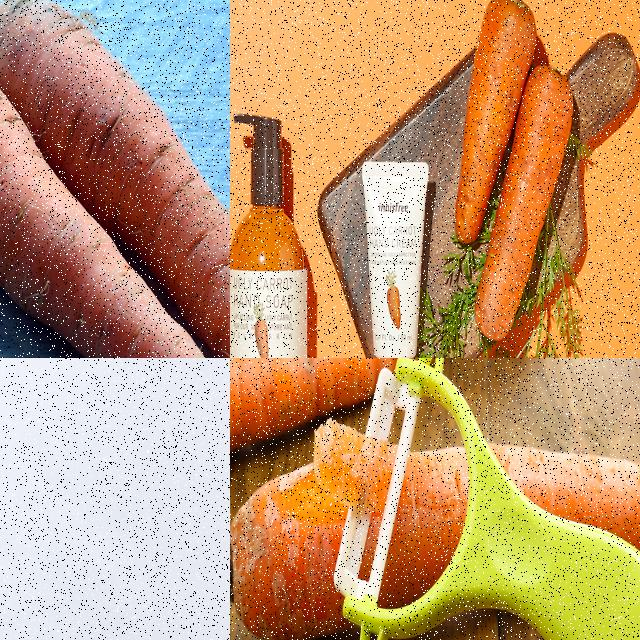carrot: (0, 0, 229, 357), (230, 441, 639, 639), (0, 39, 229, 357), (472, 62, 575, 342), (230, 358, 449, 463), (454, 0, 538, 250)
